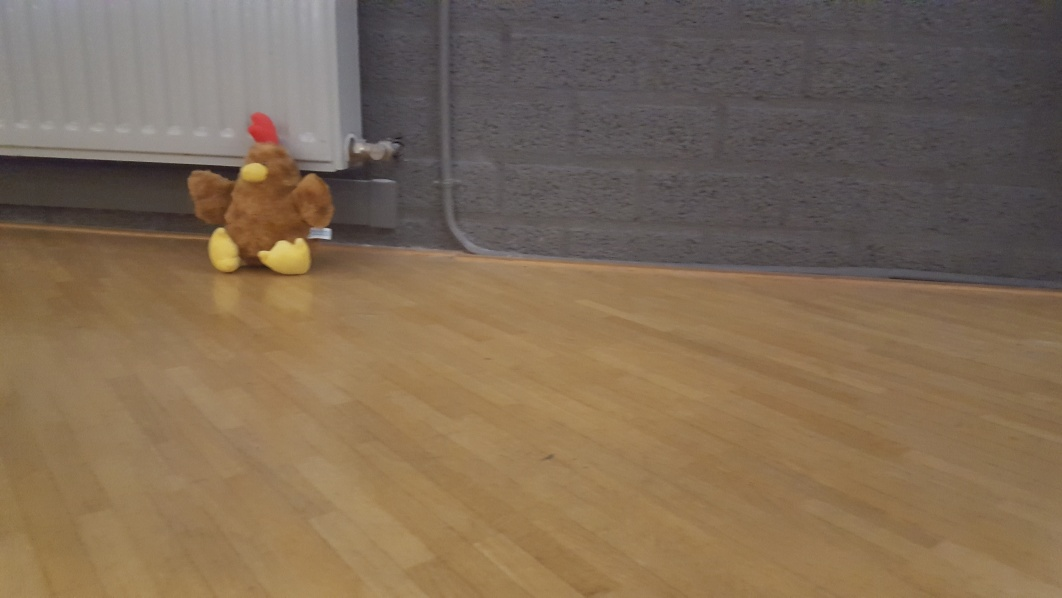chicken: (185, 114, 340, 285)
